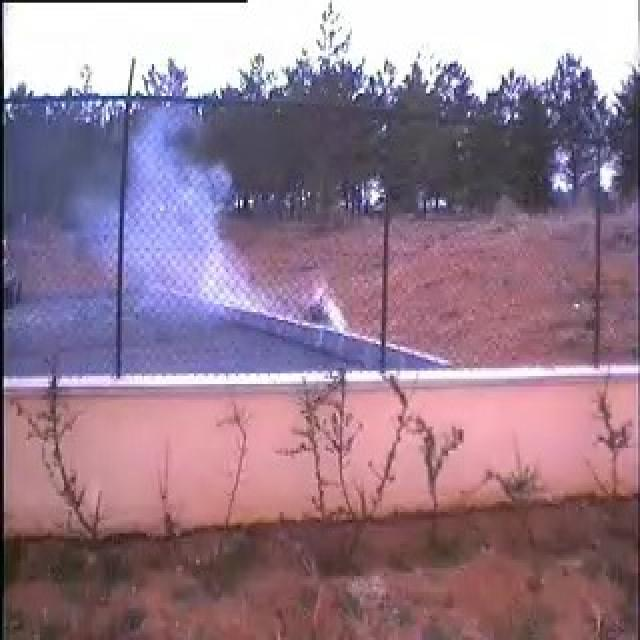smoke: (95, 99, 277, 318)
